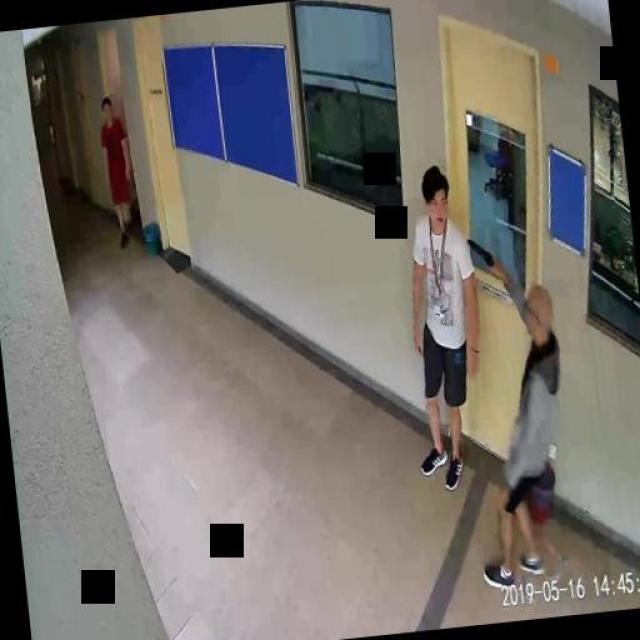gun: (466, 235, 496, 277)
